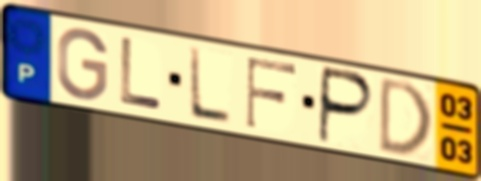D: (376, 74, 434, 158)
F: (244, 55, 300, 132)
G: (55, 26, 111, 104)
L: (186, 44, 234, 128), (118, 35, 165, 114)
P: (315, 63, 377, 147)
